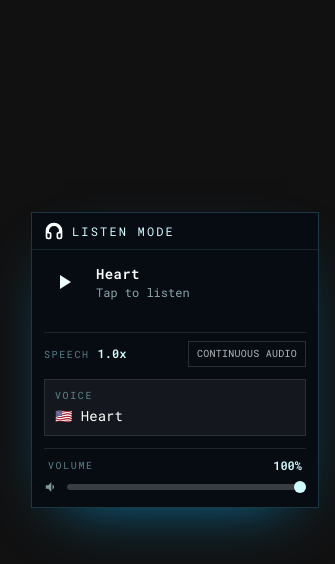
it: TTSPlayer voice changes › shows a fallback recommendation only after the device-limit thresholds are met
Click the 1st button.
click(64, 282)  # box [44,262,84,302]
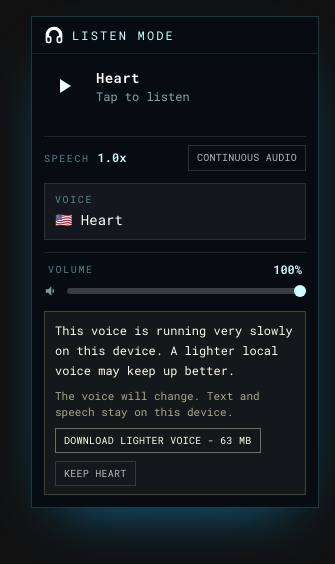
Now the message with test id "tts-fallback-recommendation" is shown, box [44,311,306,495]
Now the message with test id "tts-fallback-recommendation" shows "A lighter local voice may keep up better.", box [55,322,293,378]
